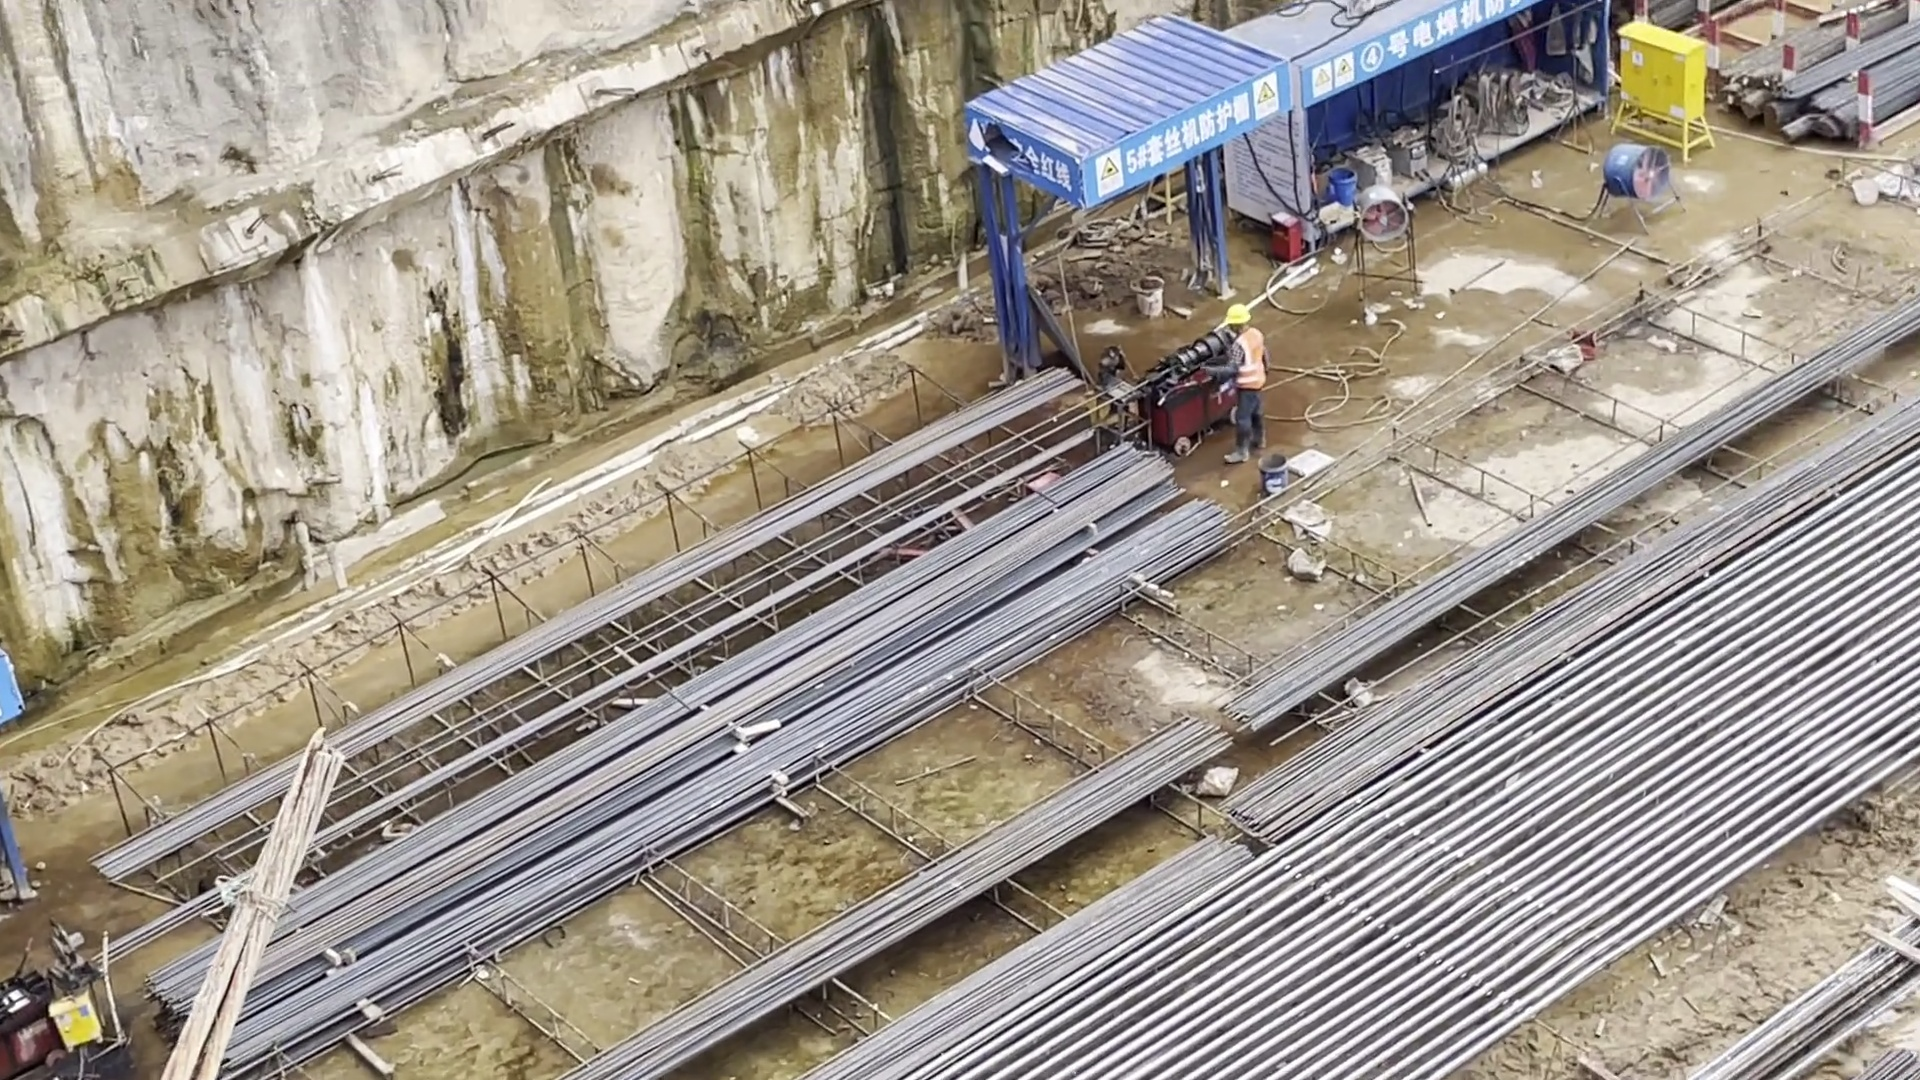ebox: (1615, 24, 1711, 160)
helmet: (1224, 307, 1249, 323)
person: (1212, 306, 1277, 464)
rebar: (80, 348, 1229, 1080)
slogan: (1089, 63, 1289, 207), (1303, 1, 1516, 105)
vest: (1231, 326, 1267, 392)
